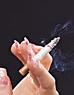smoke: (19, 36, 61, 76)
